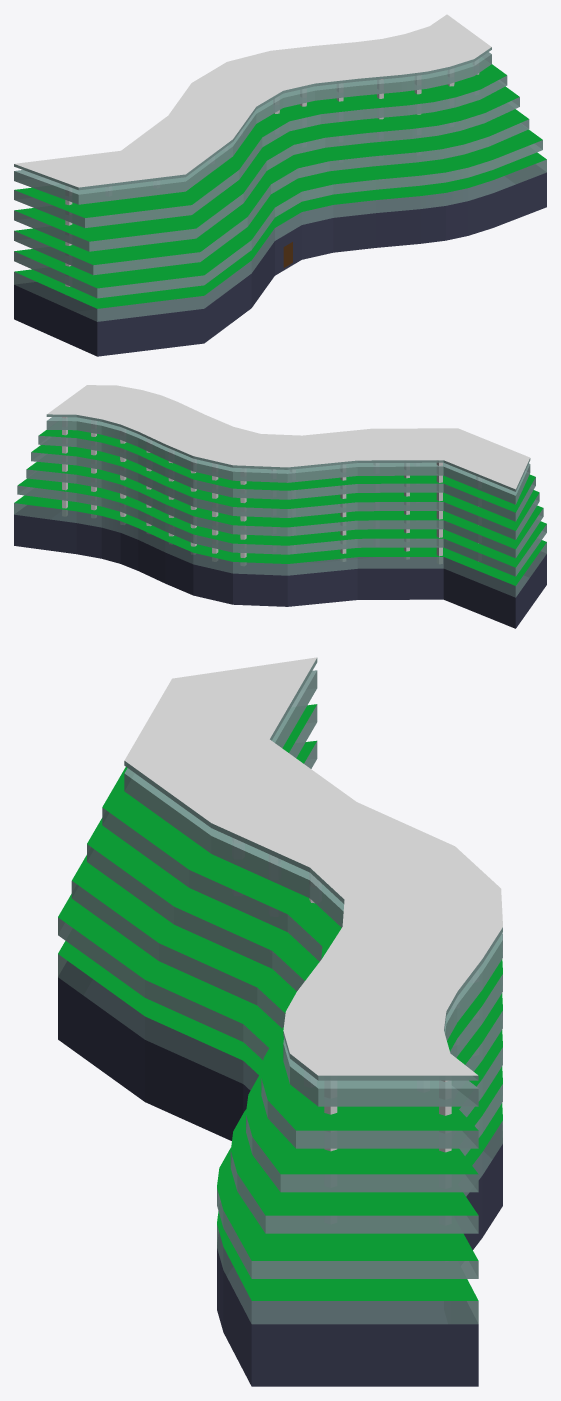
File: VerticalFarm_01.fbx
3 renders of one model, top to bottom at view 1: azimuth 30°, elevation 25°; view 2: azimuth 150°, elevation 25°; view 3: azimuth 270°, elevation 25°, orthographic. The views are drawn at different scales.
Parts seen in each view (by area): view 1: polySurface195; view 2: polySurface195; view 3: polySurface195.
Part boxes in pixels (x1,y1,x2,y2): polySurface195: (14,14,546,356); polySurface195: (14,385,546,628); polySurface195: (58,657,502,1386).
Size of the model in its own units: 1.31 by 0.378 by 0.5469.
